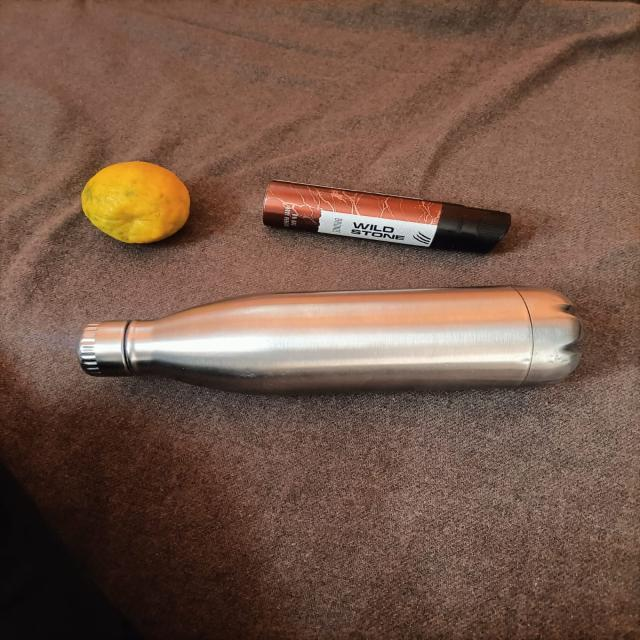bottle: (49, 280, 606, 413)
orange: (60, 155, 208, 258)
spray: (239, 155, 536, 269)
